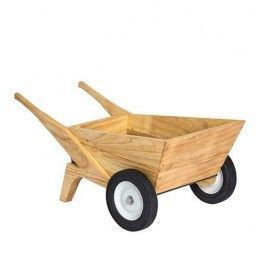Carts: (14, 81, 247, 231)
